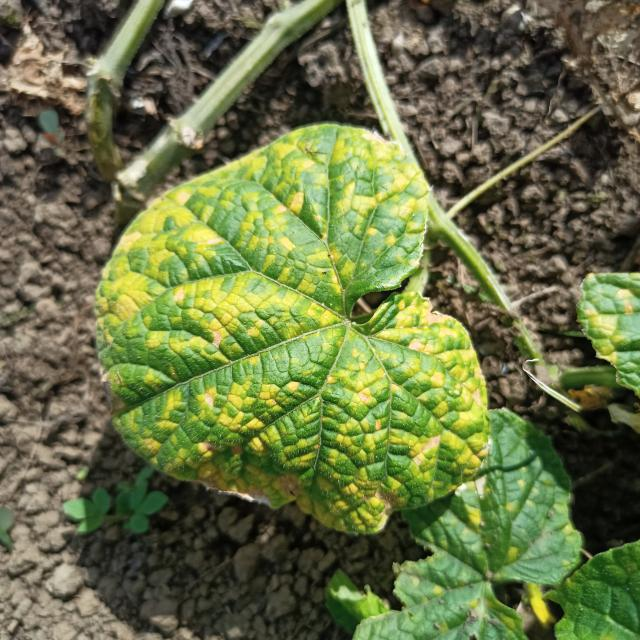disease_cucumber: (103, 126, 485, 517)
